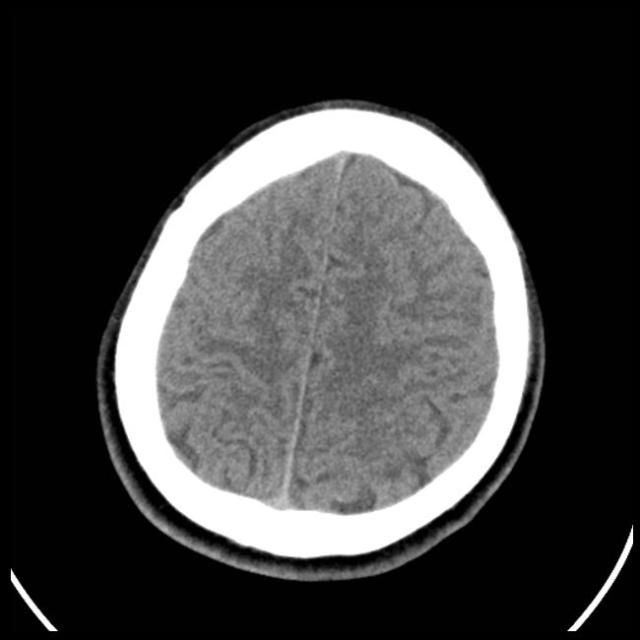lesion: (98, 98, 546, 579)
